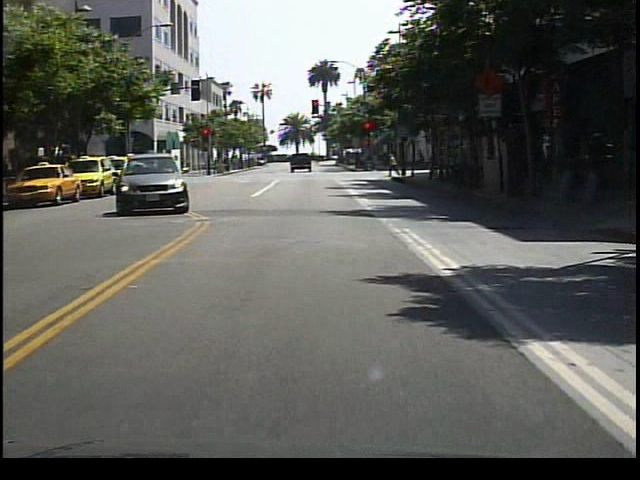person: (388, 150, 403, 177)
